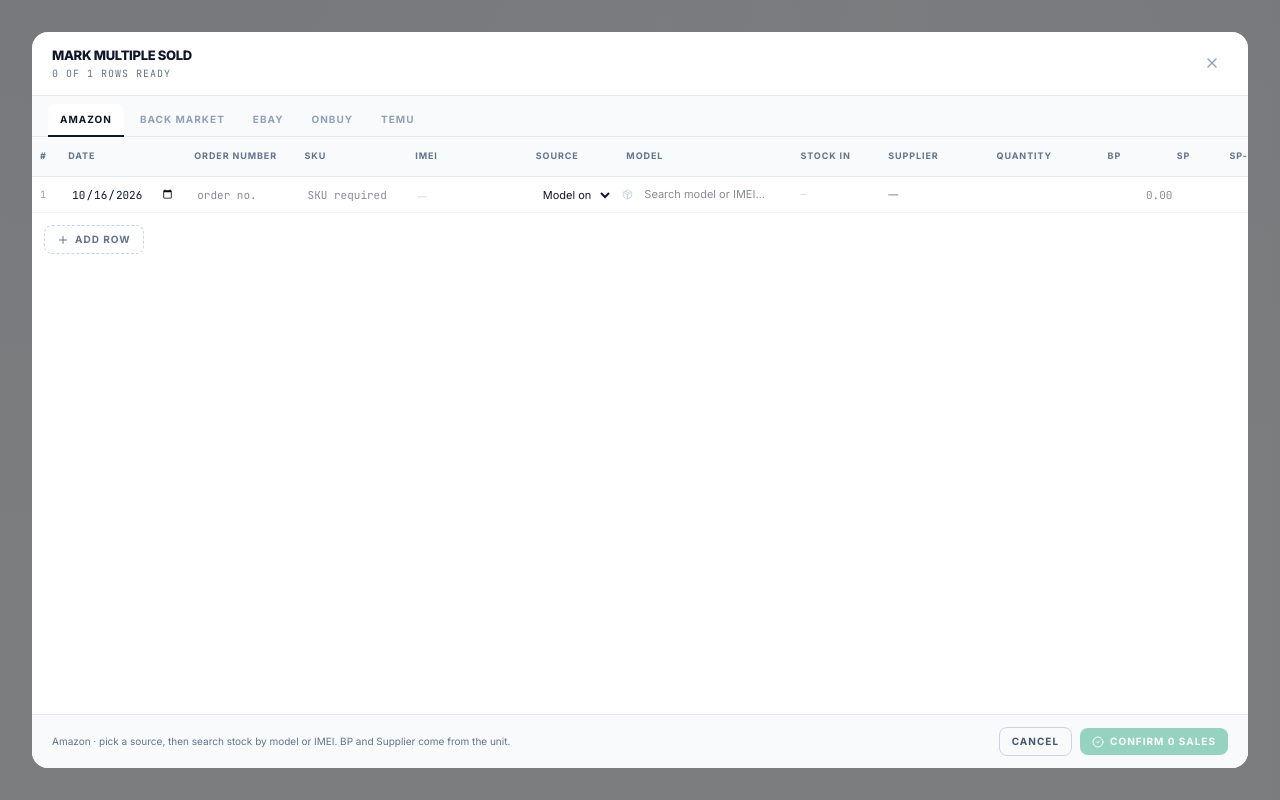
Scenario: the sale date is the operator's, and it leads the row › carries the date onto the next row — a batch is one day's orders
In the date field named "Sale date": (123, 195) [64,182,182,208], type "2026-07-30"
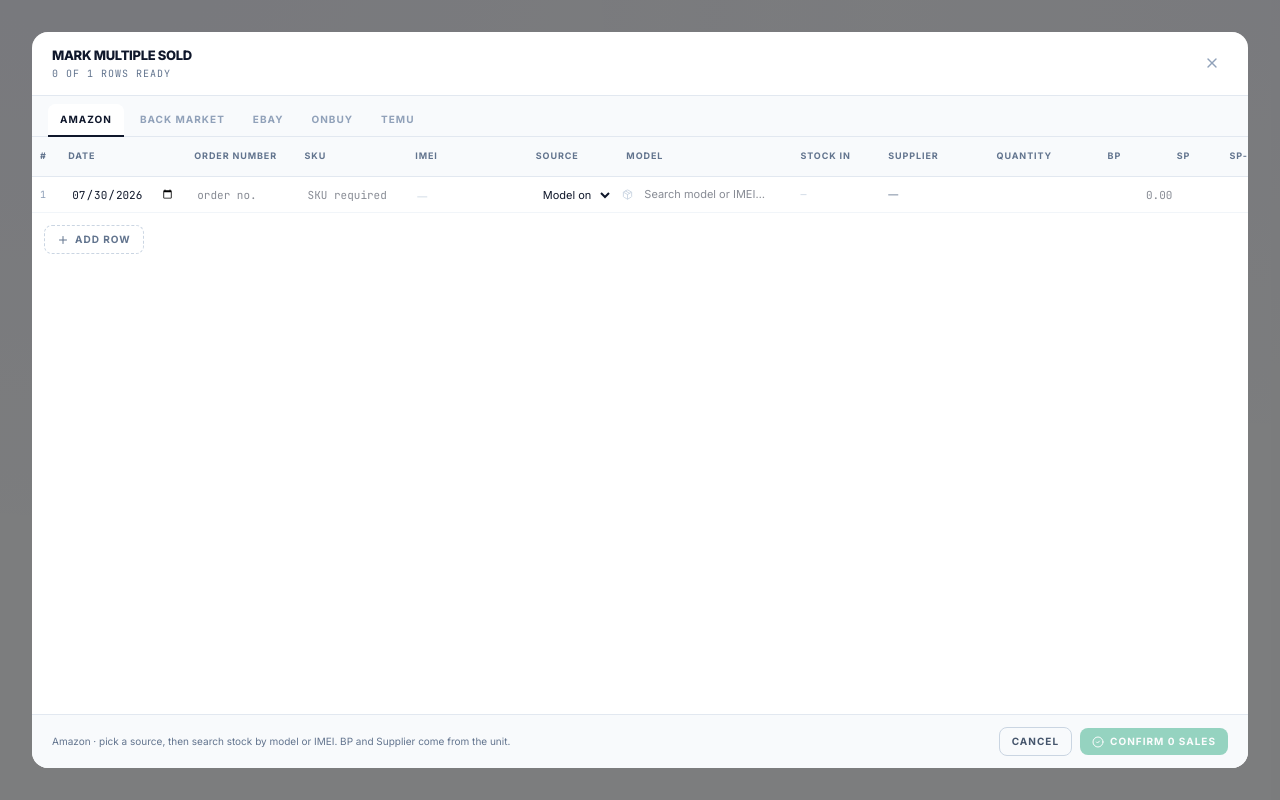
Click the button "Add row": (94, 240) [44,225,144,254]
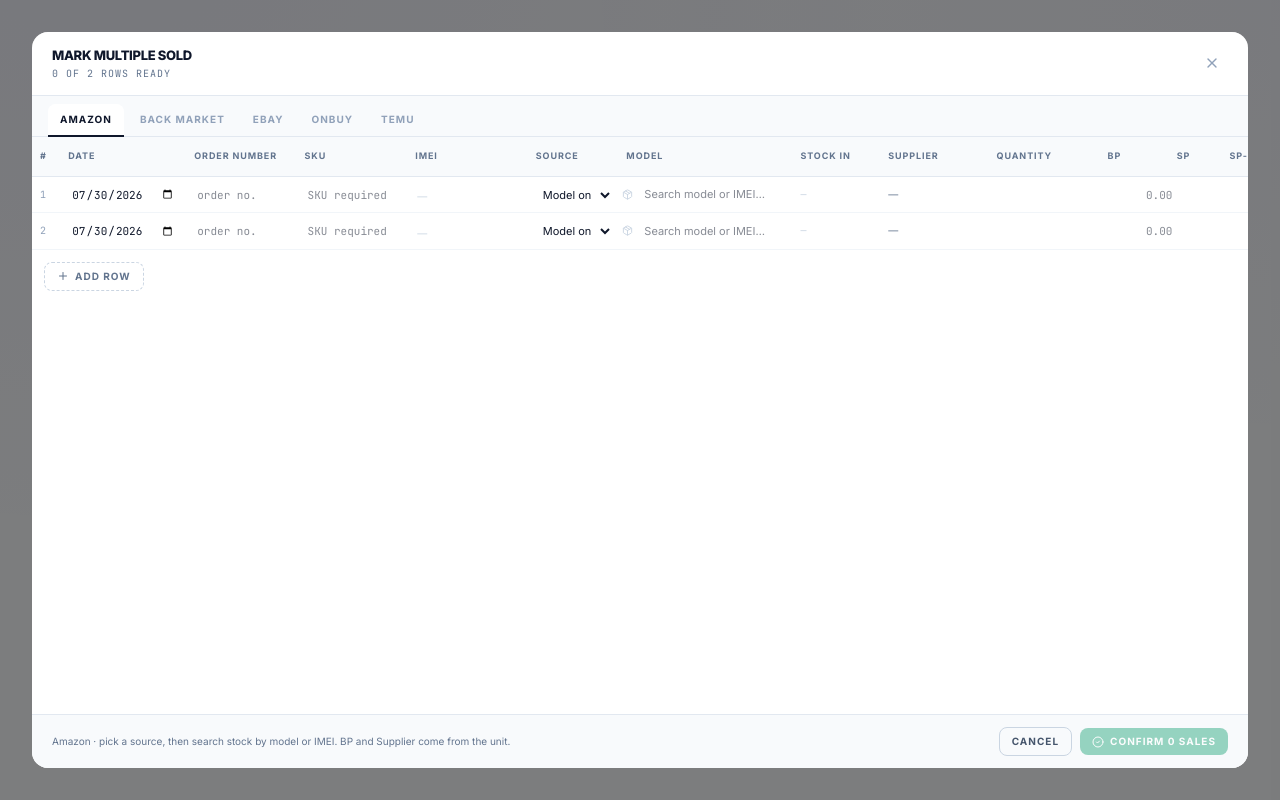
Expected: the 2nd date field named "Sale date" holds "2026-07-30", [64,218,182,244]
